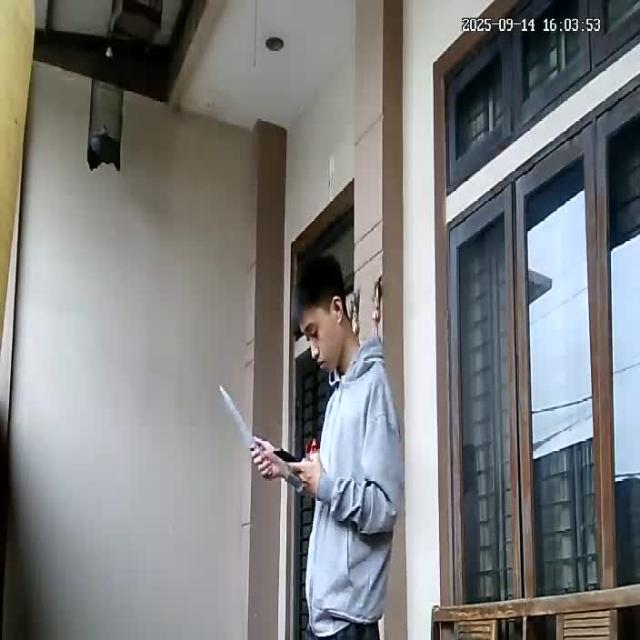senjata_tajam: (217, 381, 257, 449)
